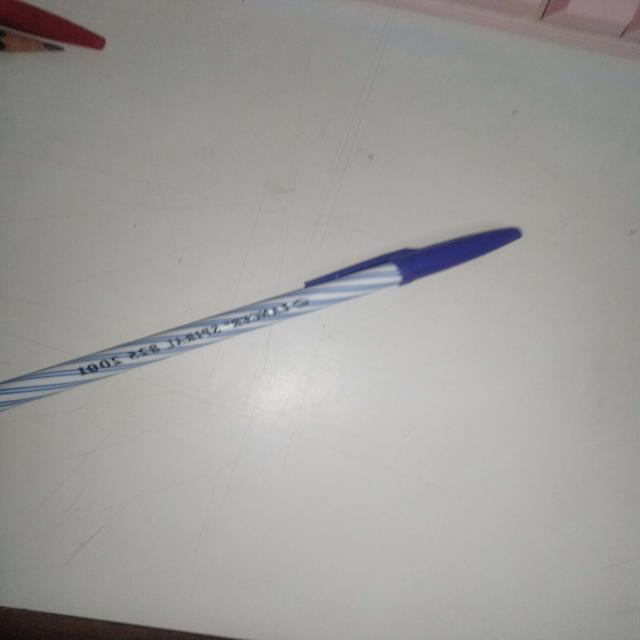pen_pencil: (0, 191, 542, 547)
